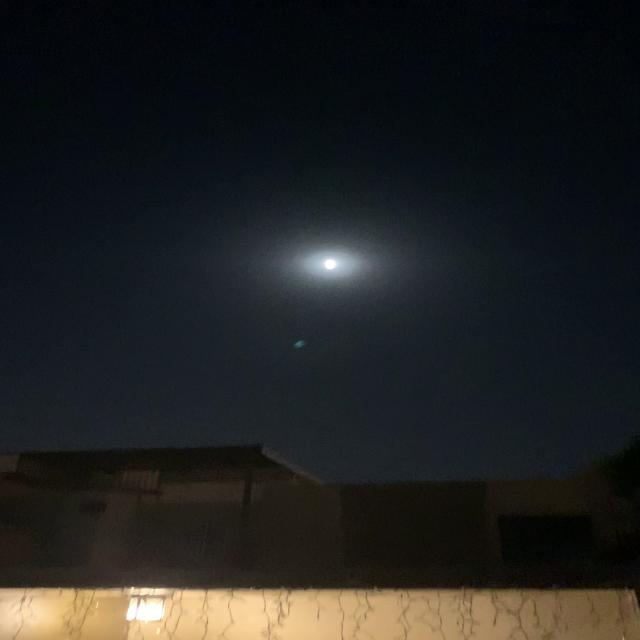moon: (312, 253, 364, 278)
